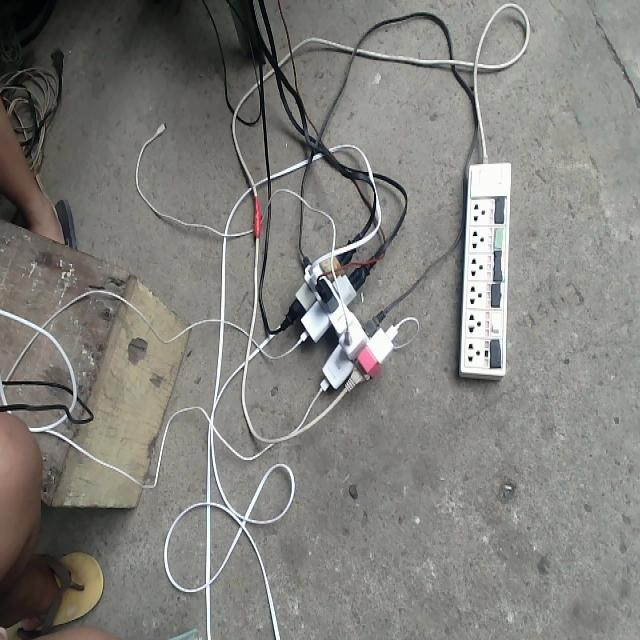-: (280, 236, 399, 399)
